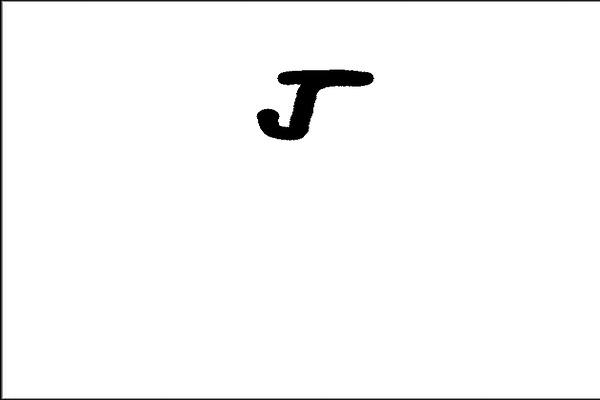J: (252, 61, 379, 140)
